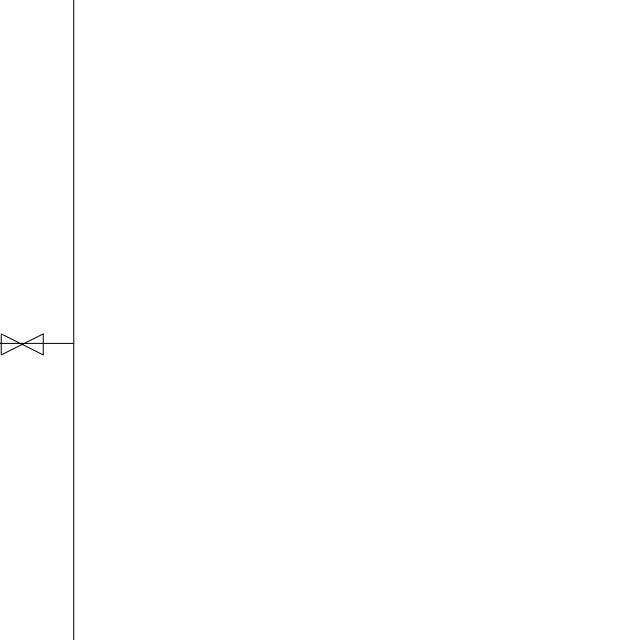GV: (0, 329, 48, 360)
